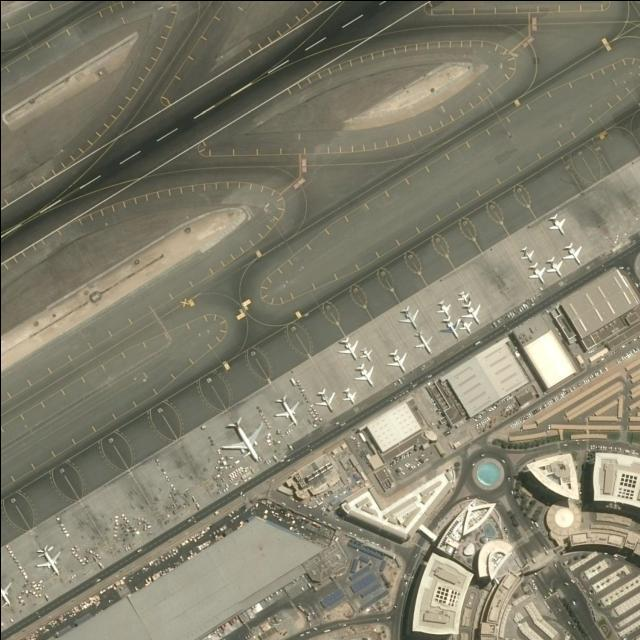Aircraft: (218, 416, 264, 464), (29, 544, 65, 578), (269, 395, 303, 426), (312, 386, 336, 416), (385, 349, 407, 374), (411, 331, 433, 356), (336, 336, 358, 360), (398, 306, 420, 330), (561, 242, 583, 266), (353, 364, 375, 387), (462, 304, 484, 326), (440, 318, 460, 340), (543, 255, 563, 277), (546, 214, 566, 236), (525, 264, 545, 285), (336, 386, 356, 406), (433, 299, 451, 319), (0, 581, 13, 608), (455, 289, 471, 305), (458, 320, 476, 334), (519, 245, 533, 263), (358, 347, 372, 363)
